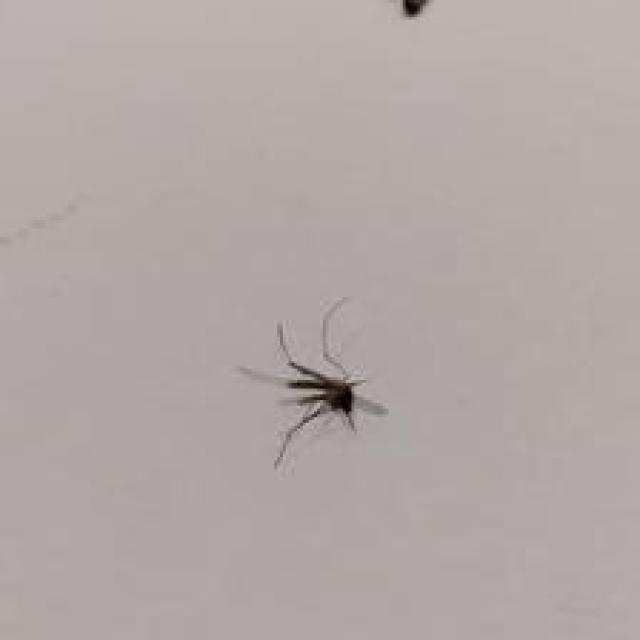Culex: (236, 294, 390, 469)
